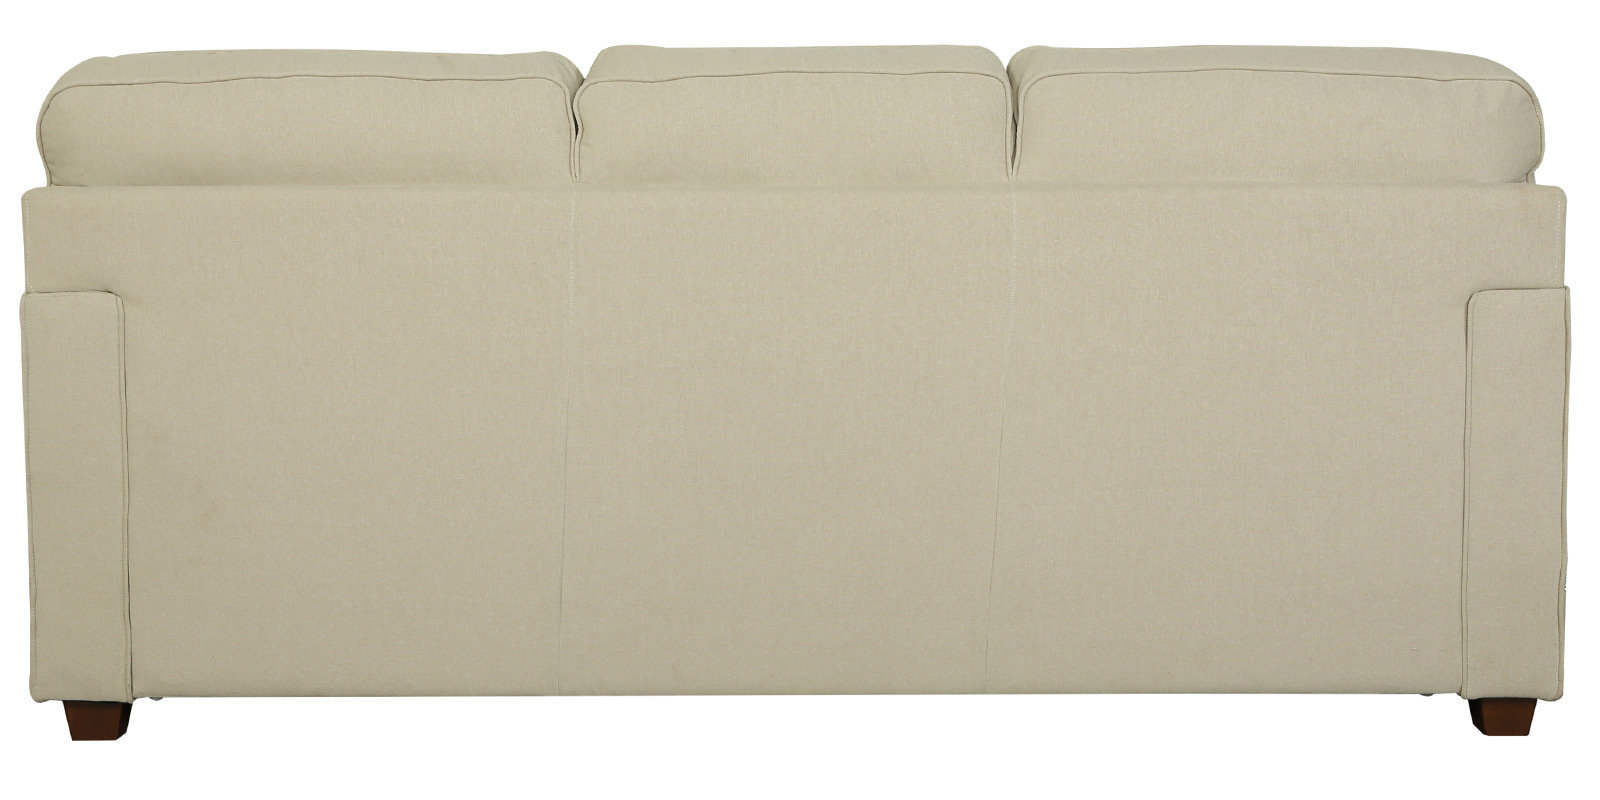Parana Three Seater Sofa in Beige Color by CasaCraft: (20, 52, 1567, 742)
